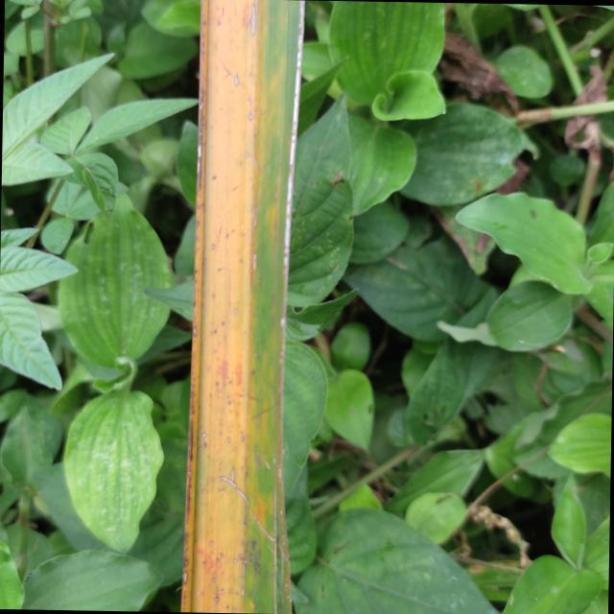Megnesium: (182, 0, 302, 614)
